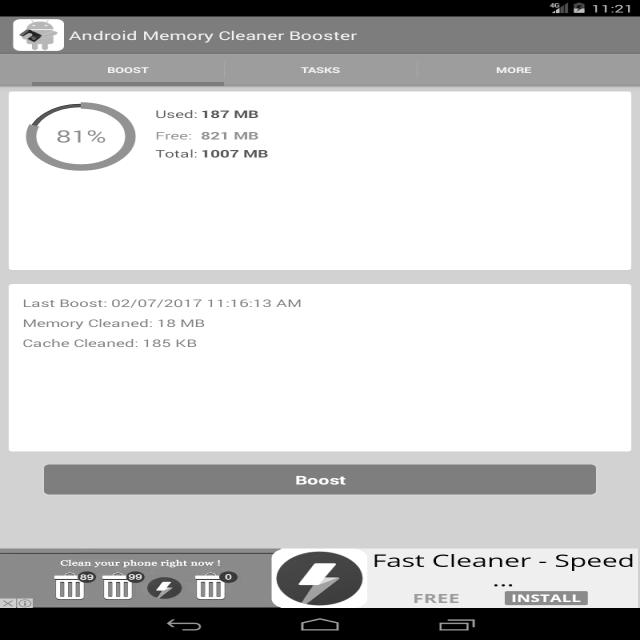Button: (37, 461, 602, 497), (501, 589, 594, 607)
ImageView: (280, 549, 359, 603), (14, 19, 64, 51), (194, 570, 239, 602), (52, 571, 90, 599), (146, 575, 186, 599)
Spinner: (23, 100, 140, 173)
TextView: (370, 549, 636, 572), (73, 27, 363, 45), (22, 334, 205, 353), (19, 298, 306, 310), (154, 106, 262, 122), (154, 146, 276, 160), (152, 128, 264, 142), (488, 62, 536, 78), (103, 63, 157, 77), (296, 63, 347, 77)
